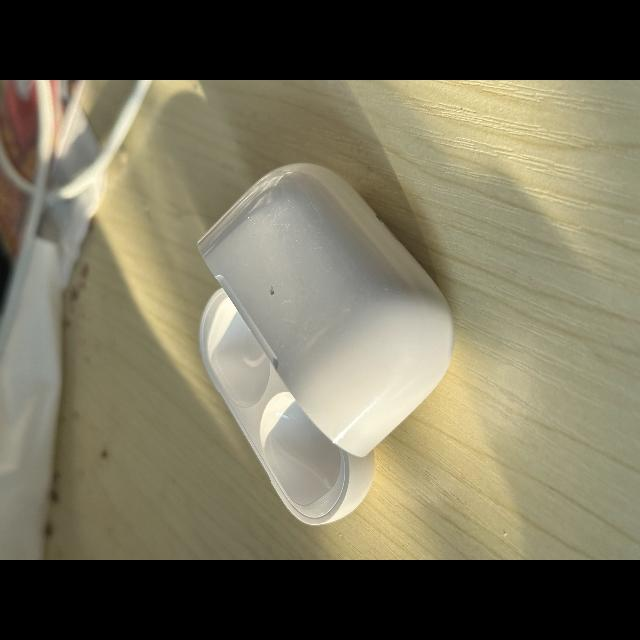AirPods Pro: (198, 163, 455, 526)
